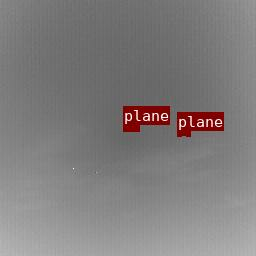plane: (123, 125, 139, 131), (177, 131, 190, 135)
